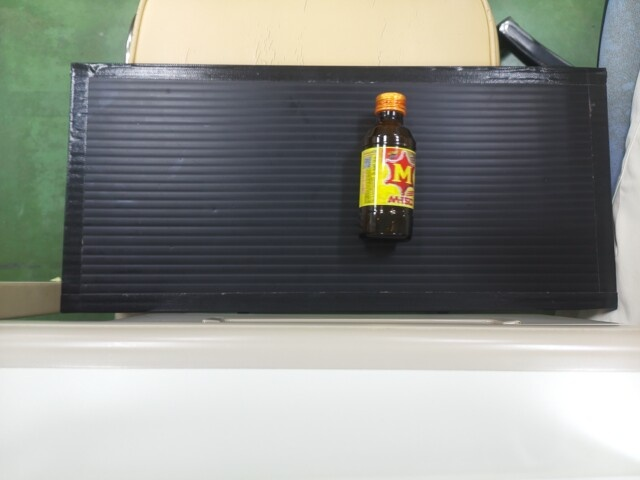glass_bottle: (356, 90, 414, 234)
